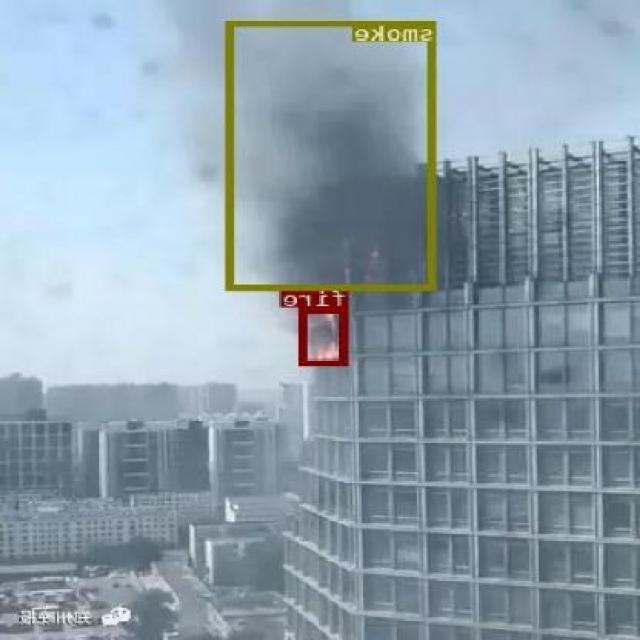Fire: (302, 307, 349, 364)
Smoke: (228, 19, 437, 290)
